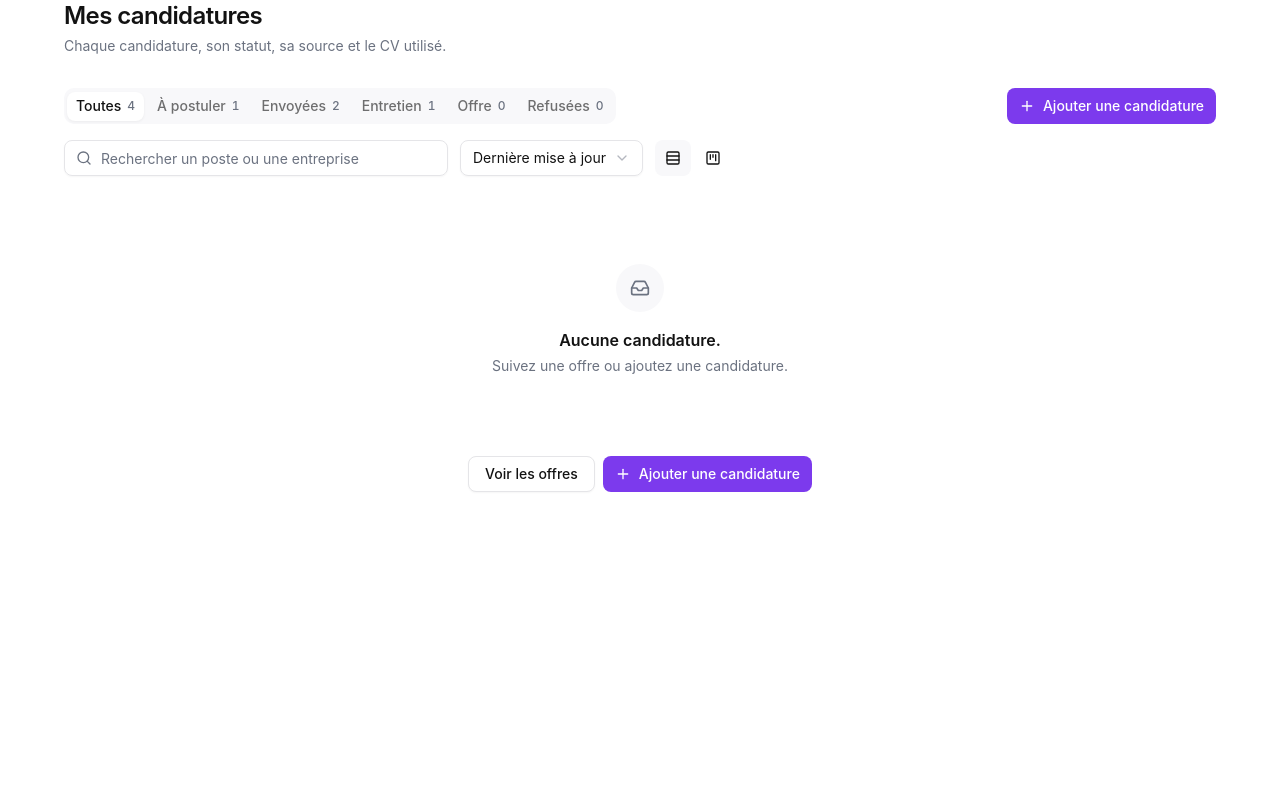
Test case: ApplicationsPage › ouvre le formulaire par le bouton Ajouter une candidature
The width and height of the screenshot is (1280, 800).
What coordinates should you click on to do the following:
click the 1st button "Ajouter une candidature"
I would click on:
 (1111, 106)
Its box is [1007,88,1216,124].
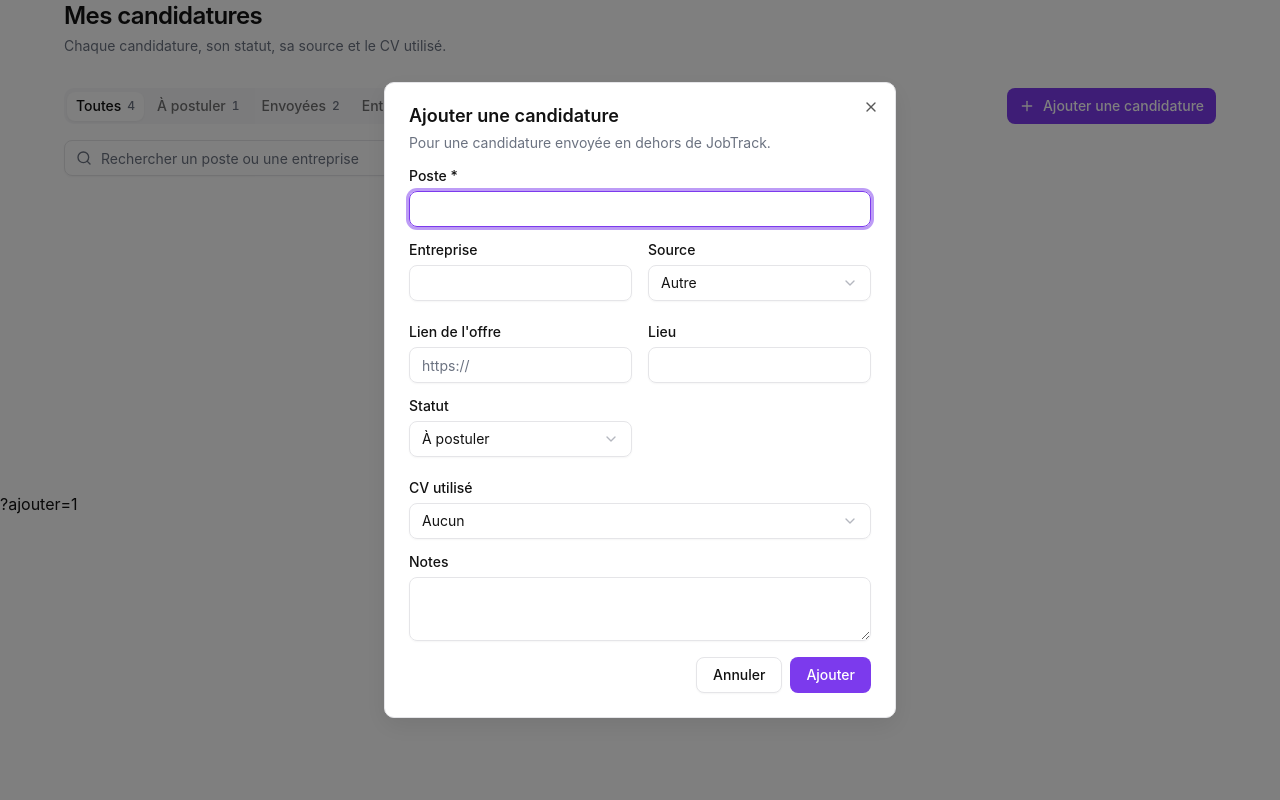
Now the text with test id "search" reads "?ajouter=1", box [0,494,78,514]
Now the dialog is shown, box [384,82,896,718]
